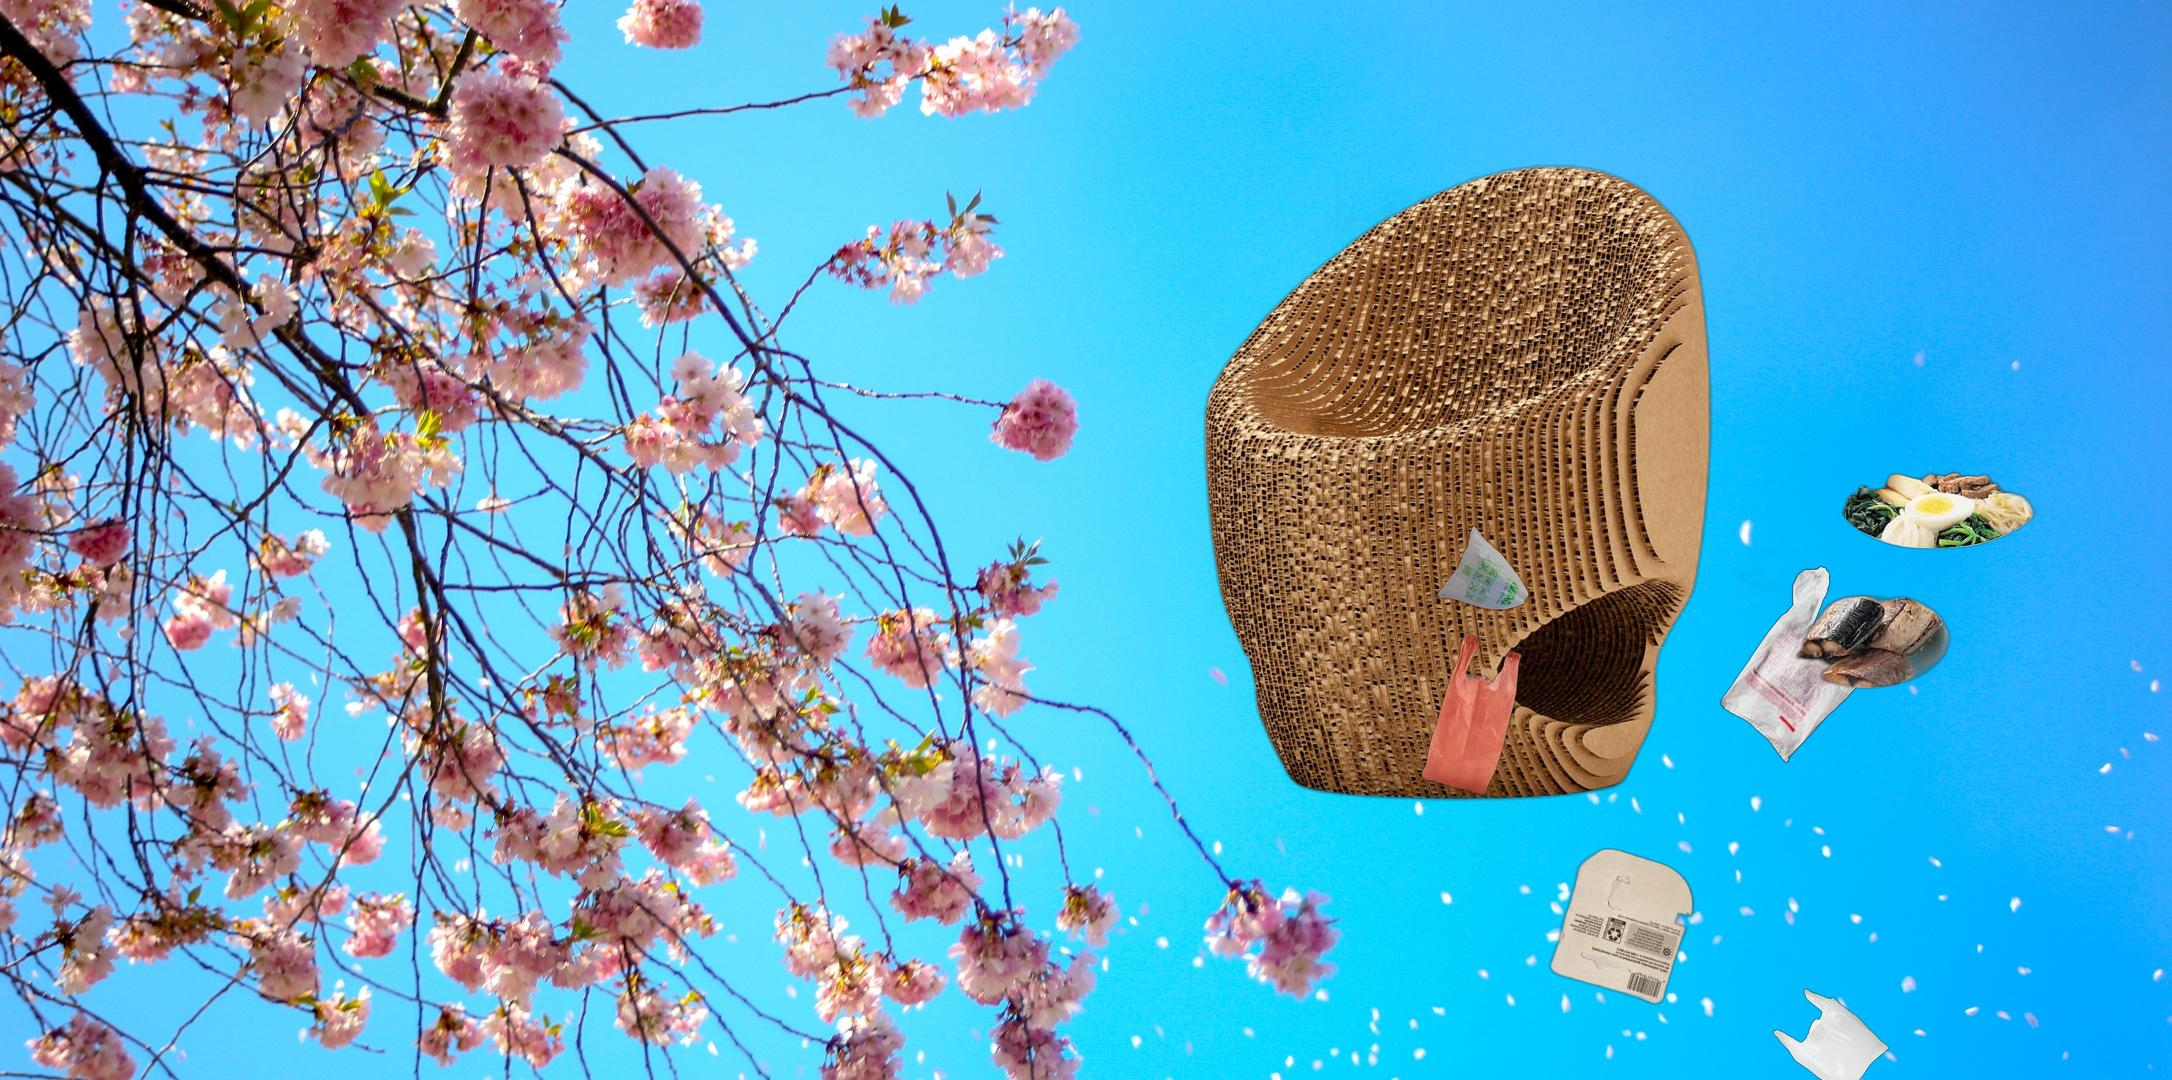biological: (1734, 469, 2040, 691)
paper: (1545, 845, 1698, 1008)
paper-bag: (1313, 188, 1593, 438)
plastic-bag: (1718, 565, 1877, 766), (1418, 525, 1531, 798), (1770, 989, 1892, 1080)
trashbox-cardboard: (1200, 161, 1718, 806)
